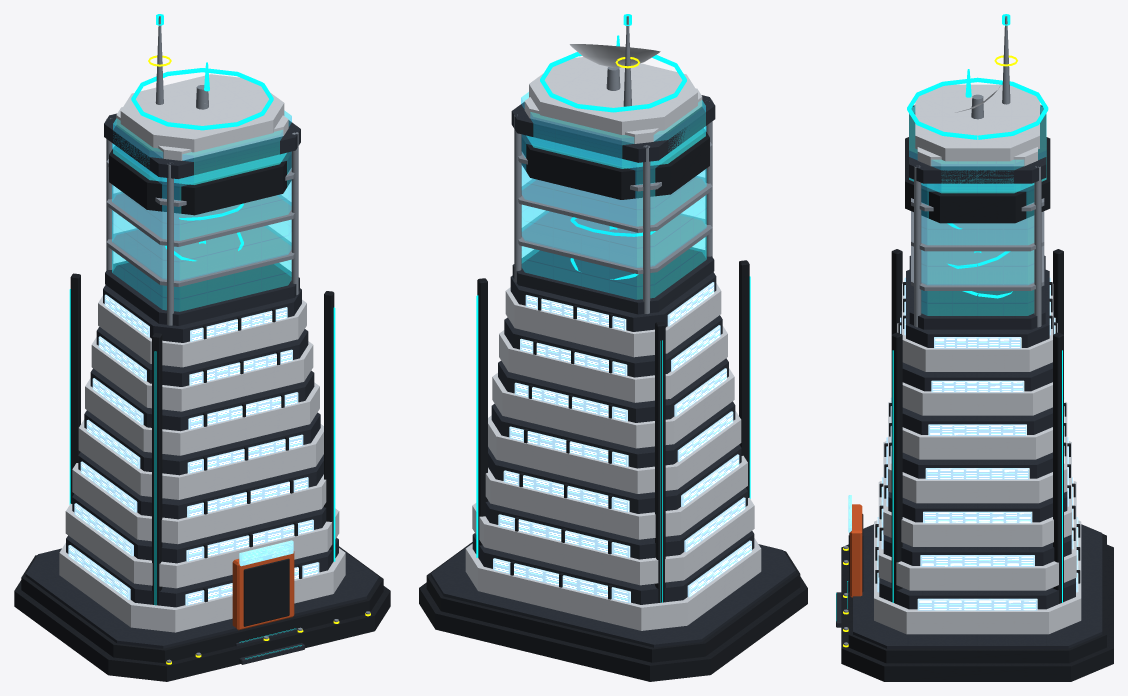
Rendered from bldg_11_r1_01.glb.
The picture shows the model from 3 angles, left to right: view 1: azimuth 30°, elevation 25°; view 2: azimuth 150°, elevation 25°; view 3: azimuth 270°, elevation 25°; orthographic projection. The views are drawn at different scales.
Visible parts, largest first — view 1: Bldg11_C01_aero_white, Bldg11_C01_carbon_slate, Bldg11_C01_gunmetal, Bldg11_C01_glass_cyan, Bldg11_C01_steel_machined, Bldg11_C01_window_lit, Bldg11_C01_led_cyan, Bldg11_C01_accent_orange, Bldg11_C01_marquee; view 2: Bldg11_C01_aero_white, Bldg11_C01_carbon_slate, Bldg11_C01_gunmetal, Bldg11_C01_glass_cyan, Bldg11_C01_steel_machined, Bldg11_C01_window_lit, Bldg11_C01_led_cyan; view 3: Bldg11_C01_aero_white, Bldg11_C01_carbon_slate, Bldg11_C01_gunmetal, Bldg11_C01_glass_cyan, Bldg11_C01_steel_machined, Bldg11_C01_window_lit, Bldg11_C01_led_cyan, Bldg11_C01_accent_orange.
Part boxes in pixels (box(x1,y1,x2,y2)): Bldg11_C01_aero_white: box(59, 74, 345, 632); Bldg11_C01_carbon_slate: box(25, 113, 379, 664); Bldg11_C01_gunmetal: box(14, 145, 390, 681); Bldg11_C01_glass_cyan: box(112, 110, 291, 311); Bldg11_C01_steel_machined: box(106, 16, 370, 662); Bldg11_C01_window_lit: box(68, 294, 319, 605); Bldg11_C01_led_cyan: box(69, 14, 335, 659); Bldg11_C01_accent_orange: box(232, 551, 294, 630); Bldg11_C01_marquee: box(239, 540, 293, 566); Bldg11_C01_aero_white: box(465, 44, 761, 630); Bldg11_C01_carbon_slate: box(431, 95, 795, 647); Bldg11_C01_gunmetal: box(419, 128, 807, 681); Bldg11_C01_glass_cyan: box(521, 92, 706, 299); Bldg11_C01_steel_machined: box(514, 16, 712, 313); Bldg11_C01_window_lit: box(493, 282, 751, 603); Bldg11_C01_led_cyan: box(476, 14, 750, 602); Bldg11_C01_aero_white: box(874, 80, 1081, 634); Bldg11_C01_carbon_slate: box(836, 105, 1102, 648); Bldg11_C01_gunmetal: box(841, 137, 1113, 681); Bldg11_C01_glass_cyan: box(909, 106, 1046, 315); Bldg11_C01_steel_machined: box(843, 16, 1044, 645); Bldg11_C01_window_lit: box(877, 277, 1078, 610); Bldg11_C01_led_cyan: box(836, 14, 1062, 620); Bldg11_C01_accent_orange: box(850, 504, 862, 597).
Size of the model in its own units: 12.5 by 24.82 by 10.71.
10 materials, 10 textured.
